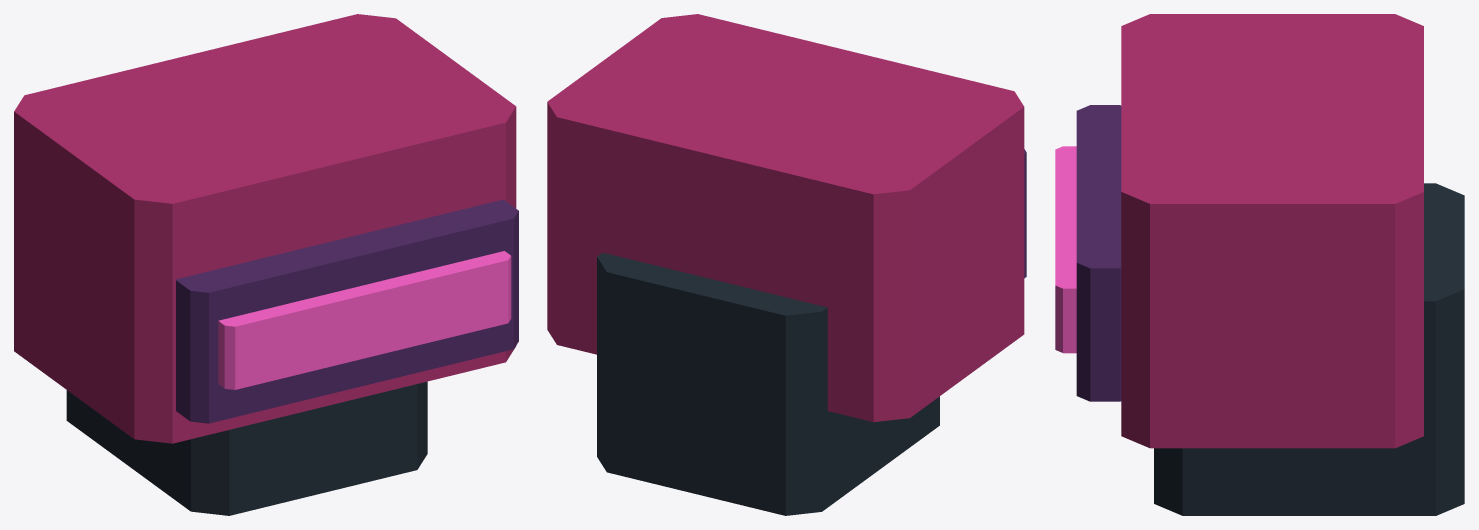
File: enemy_striker_lod_head.obj
The picture shows the model from 3 angles, left to right: view 1: azimuth 30°, elevation 25°; view 2: azimuth 150°, elevation 25°; view 3: azimuth 270°, elevation 25°; orthographic projection. The views are drawn at different scales.
Size of the model in its own units: 0.55 by 0.47 by 0.501.
